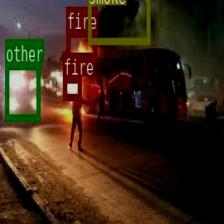fire: (66, 29, 96, 61), (62, 75, 80, 99)
smoke: (87, 0, 149, 43)
